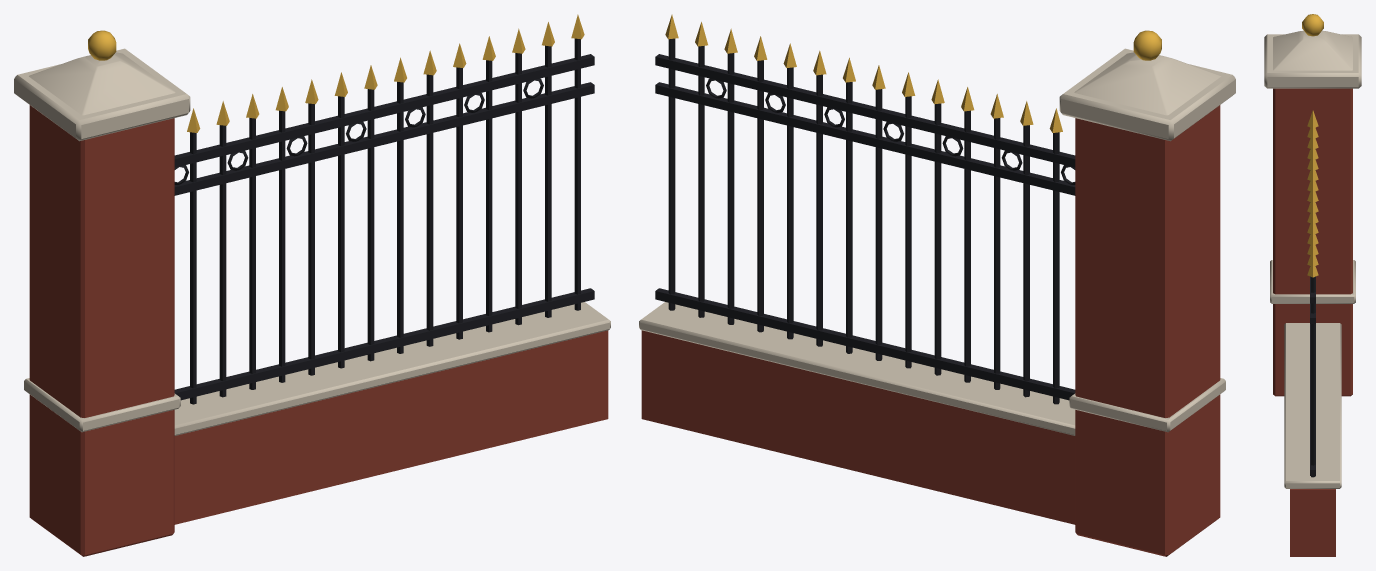
The model's file is Lobby_IronFence.fbx.
The picture shows the model from 3 angles, left to right: view 1: azimuth 30°, elevation 25°; view 2: azimuth 150°, elevation 25°; view 3: azimuth 270°, elevation 25°; orthographic projection. The views are drawn at different scales.
Visible parts, largest first — view 1: Brick, Iron, Stone, Gold; view 2: Brick, Iron, Stone, Gold; view 3: Brick, Stone, Gold, Iron.
Boxes of the visible parts, x1,y1,x2,y2 form: Brick: [29, 105, 608, 556]; Iron: [174, 38, 594, 404]; Stone: [14, 48, 610, 435]; Gold: [88, 14, 584, 132]; Brick: [641, 105, 1220, 556]; Iron: [655, 38, 1075, 404]; Stone: [639, 48, 1235, 435]; Gold: [665, 14, 1161, 132]; Brick: [1273, 88, 1352, 556]; Stone: [1264, 30, 1361, 488]; Gold: [1302, 14, 1323, 277]; Iron: [1310, 138, 1315, 477].
Bounding box in the file's own units: 815 × 705 × 170.
